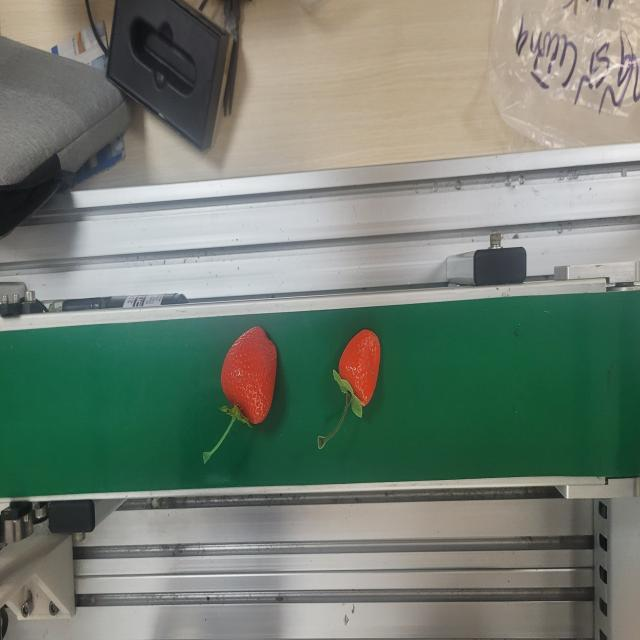Large Ripe Strawberry: (220, 322, 280, 425)
Small Ripe Strawberry: (334, 325, 384, 414)
